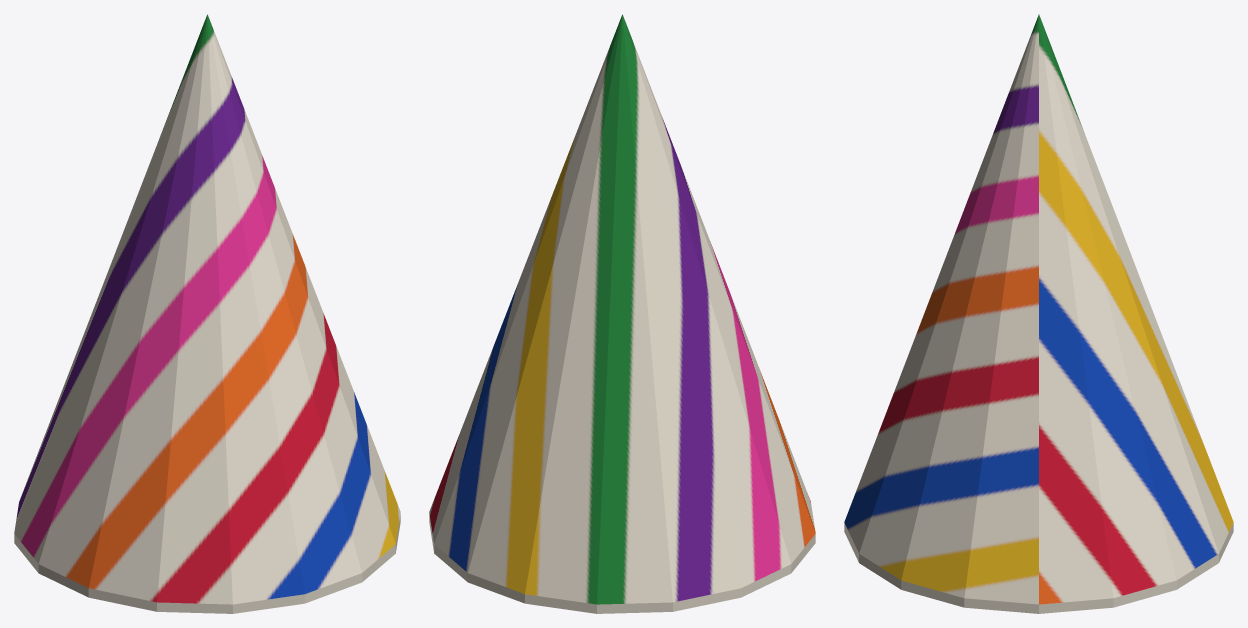
The model's file is party_hat_stripes.glb.
3 views of the same model, side by side, from view 1: azimuth 30°, elevation 25°; view 2: azimuth 150°, elevation 25°; view 3: azimuth 270°, elevation 25° (orthographic).
Visible parts, largest first — view 1: party_hat_stripes; view 2: party_hat_stripes; view 3: party_hat_stripes.
Part boxes in pixels (<box>): party_hat_stripes: <box>14,14,400,613</box>; party_hat_stripes: <box>429,14,815,613</box>; party_hat_stripes: <box>844,14,1233,613</box>.
Bounding box in the file's own units: 0.15 × 0.22 × 0.15.
Materials: 2 (2 with a texture image).
